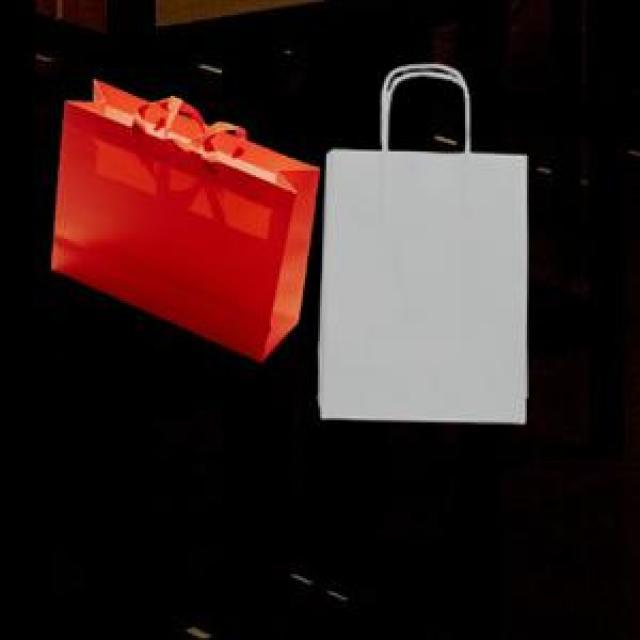paper: (47, 75, 316, 358), (314, 60, 523, 420)
